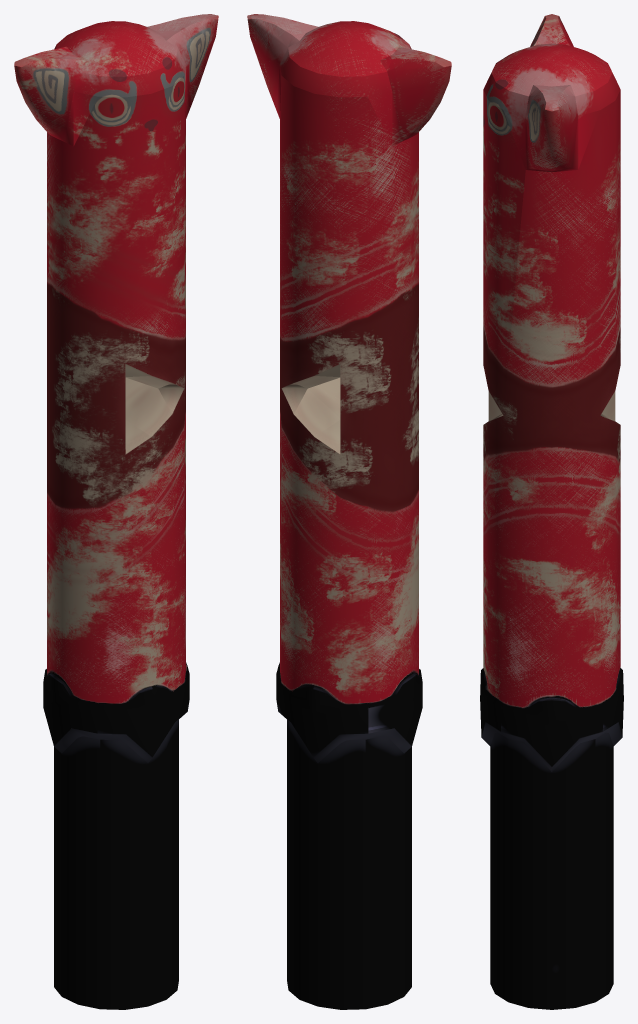
Rendered from grand_totem_low.obj.
3 views of the same model, side by side, from view 1: azimuth 30°, elevation 25°; view 2: azimuth 150°, elevation 25°; view 3: azimuth 270°, elevation 25° (orthographic). The views are drawn at different scales.
Visible parts, largest first — view 1: haut_01; view 2: haut_01; view 3: haut_01.
Boxes of the visible parts, left/top/right/bottom form: haut_01: left=14, top=14, right=218, bottom=1009; haut_01: left=247, top=14, right=451, bottom=1009; haut_01: left=480, top=14, right=623, bottom=1009.
Size of the model in its own units: 352 by 1566 by 219.
Materials: 1 (1 with a texture image).
